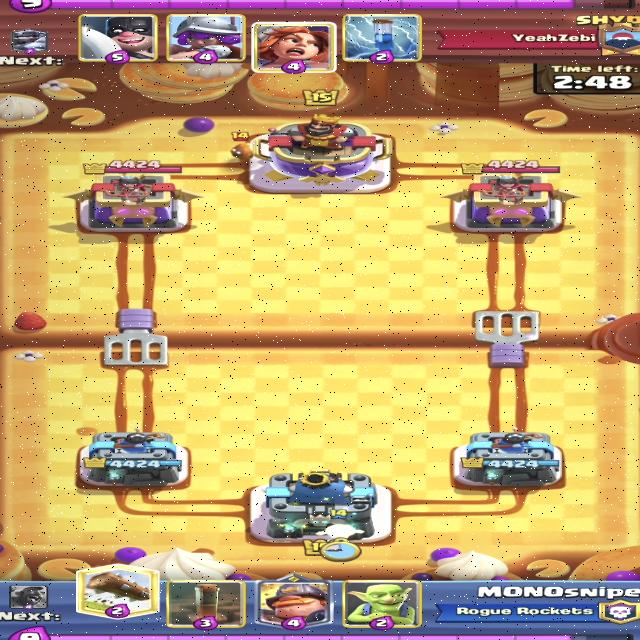Enemy-FireSpirit: (230, 131, 257, 166)
Player-IceSpirit: (316, 509, 366, 542)
